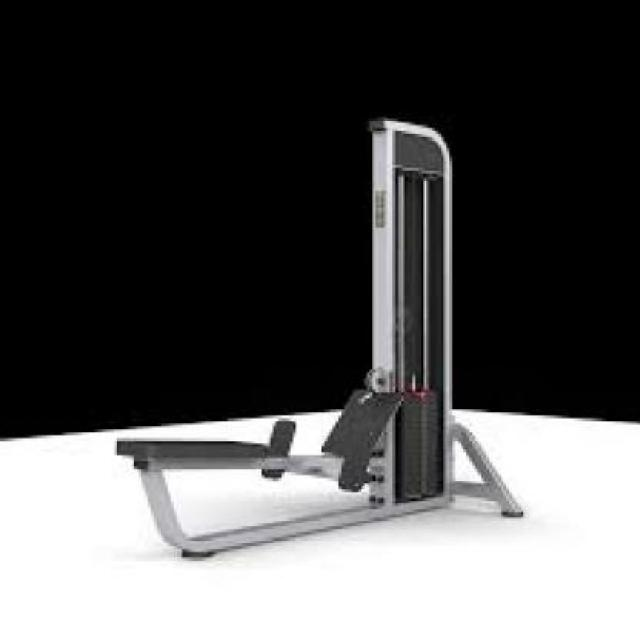Seated Cable Rows: (112, 108, 526, 564)
